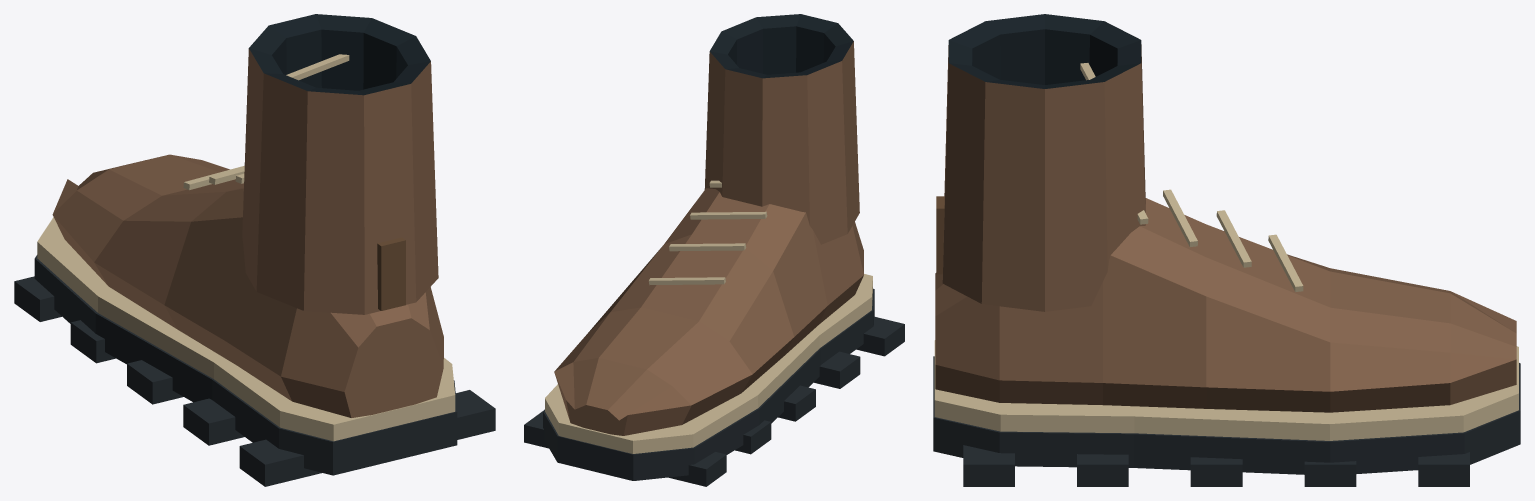
File: b17_lace_up_hiking_boot.glb
3 renders of one model, left to right at view 1: azimuth 30°, elevation 25°; view 2: azimuth 150°, elevation 25°; view 3: azimuth 270°, elevation 25°, orthographic. The views are drawn at different scales.
Parts seen in each view (by area): view 1: b17_lace_up_hiking_boot; view 2: b17_lace_up_hiking_boot; view 3: b17_lace_up_hiking_boot.
Boxes of the visible parts, x1=… form: b17_lace_up_hiking_boot: x1=14, y1=14, x2=495, y2=486; b17_lace_up_hiking_boot: x1=524, y1=14, x2=904, y2=486; b17_lace_up_hiking_boot: x1=933, y1=14, x2=1520, y2=486.
Bounding box in the file's own units: 0.13 × 0.202 × 0.284.
